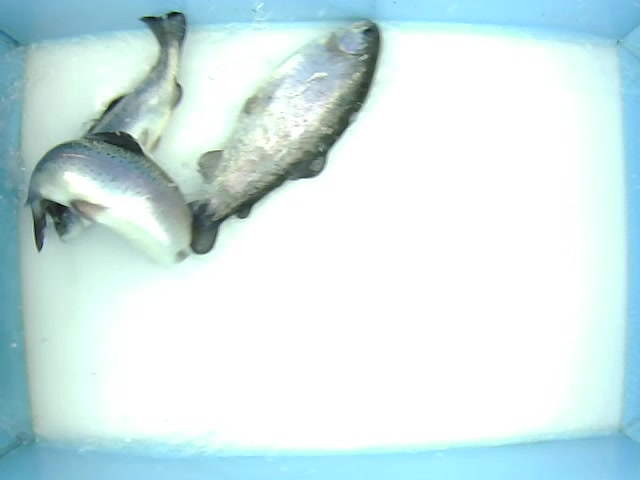fish: (182, 12, 381, 264), (40, 10, 189, 243), (23, 138, 197, 270)
